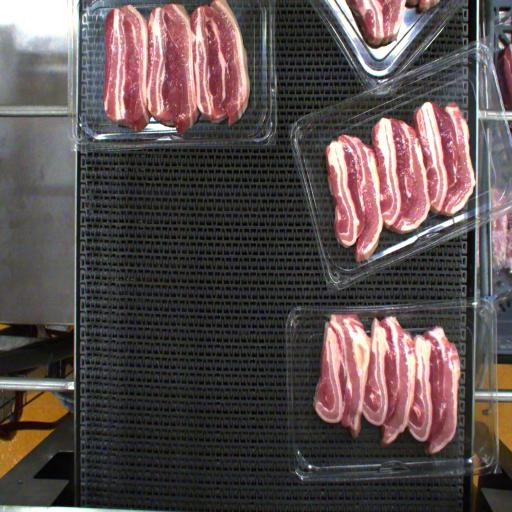packaging-error: (323, 303, 361, 327)
